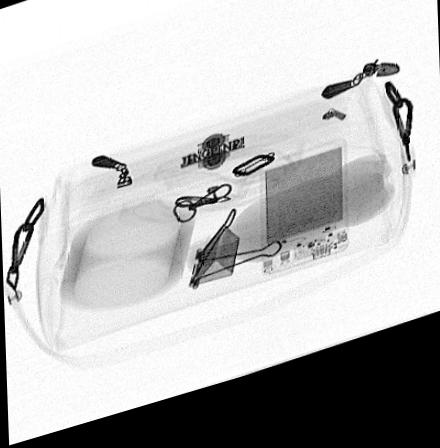Powerbank: (257, 157, 350, 290)
